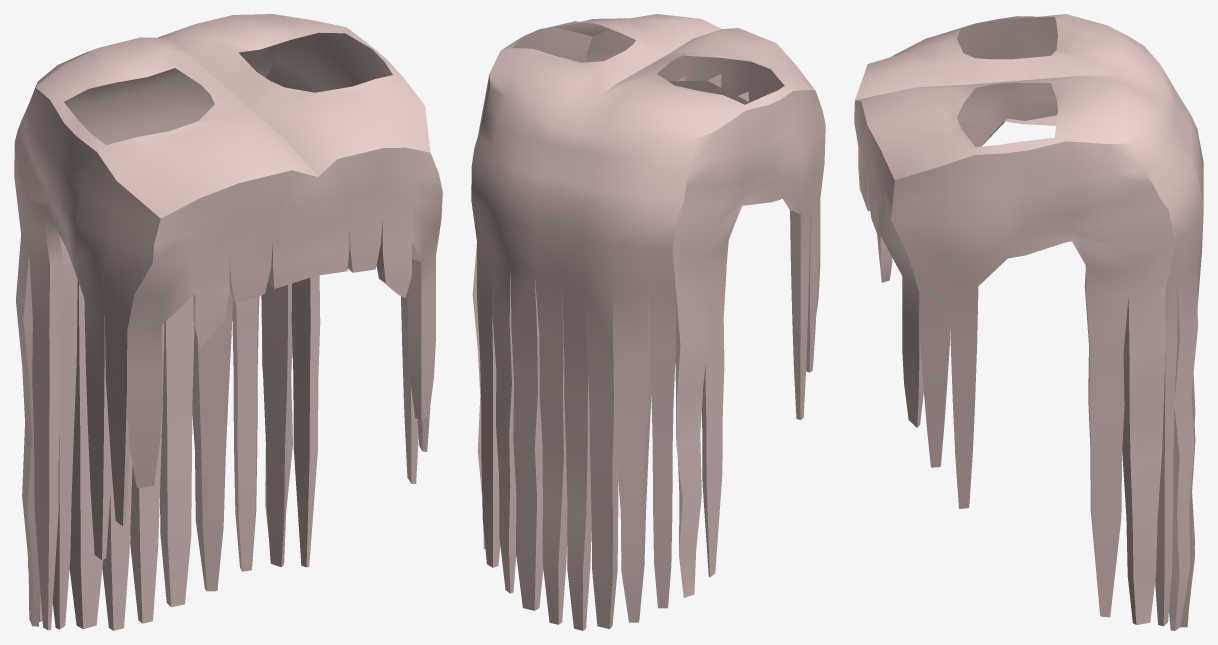
File: hair.fbx
3 views of the same model, side by side, from view 1: azimuth 30°, elevation 25°; view 2: azimuth 150°, elevation 25°; view 3: azimuth 270°, elevation 25° (orthographic). The views are drawn at different scales.
Parts seen in each view (by area): view 1: hair_main; view 2: hair_main; view 3: hair_main.
Boxes of the visible parts, box(x1,y1,x2,y2) form: hair_main: box(14, 14, 442, 630); hair_main: box(471, 14, 825, 630); hair_main: box(854, 14, 1203, 630).
Bounding box in the file's own units: 166 × 291 × 169.
